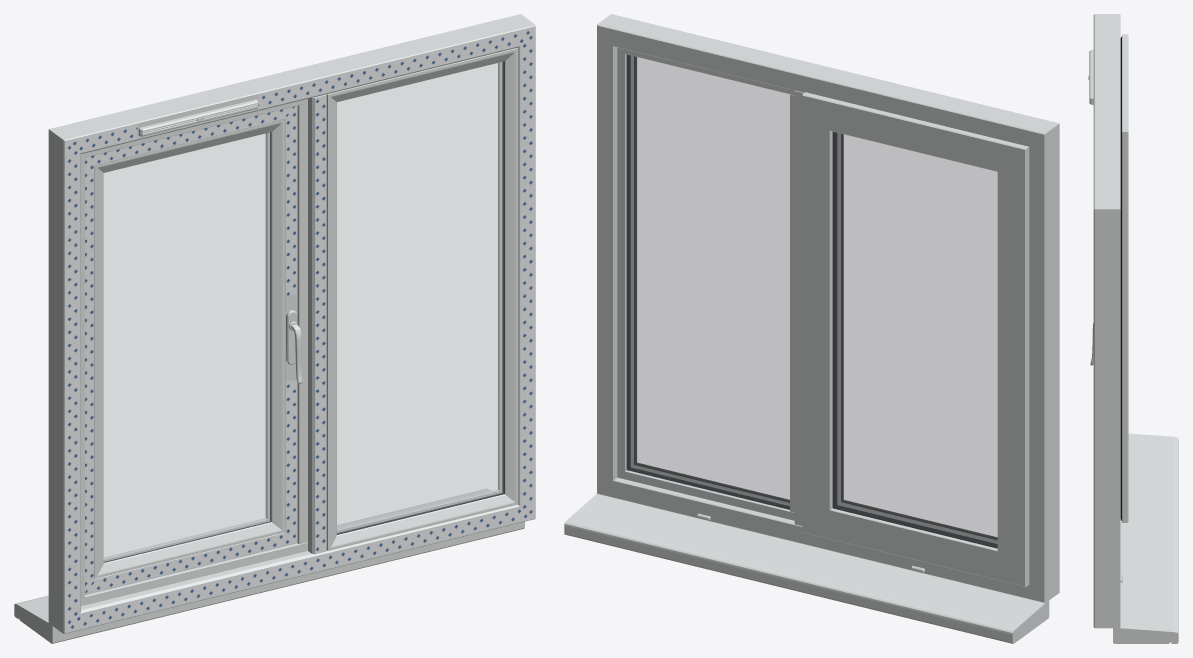
The model's file is window.glb.
3 renders of one model, left to right at view 1: azimuth 30°, elevation 25°; view 2: azimuth 150°, elevation 25°; view 3: azimuth 270°, elevation 25°, orthographic. The views are drawn at different scales.
Visible parts, largest first — view 1: fixed_inner_pane, opener_inner_pane, film, outer_frame, mullion, fixed_bead_right, opener_bead_right, cill, sash, fixed_bead_left, opener_bead_left, opener_bead_bottom (+8 smaller); view 2: fixed_outer_pane, opener_outer_pane, outer_frame, sash, cill, mullion, bead_gasket, opener_spacer_bar, fixed_spacer_bar, fixed_bead_right, opener_bead_right, opener_bead_bottom (+1 smaller); view 3: outer_frame, cill, sash, sash_gasket, trickle_vent.
Part boxes in pixels (x1,y1,x2,y2): fixed_inner_pane: [337, 62, 503, 533]; opener_inner_pane: [104, 133, 270, 561]; film: [65, 27, 534, 632]; outer_frame: [48, 14, 535, 633]; mullion: [297, 94, 326, 554]; fixed_bead_right: [504, 49, 517, 504]; opener_bead_right: [271, 119, 284, 532]; cill: [14, 488, 524, 643]; sash: [85, 106, 297, 594]; fixed_bead_left: [327, 94, 336, 550]; opener_bead_left: [94, 166, 103, 578]; opener_bead_bottom: [95, 522, 284, 578]; fixed_outer_pane: [627, 55, 789, 509]; opener_outer_pane: [833, 132, 996, 547]; outer_frame: [597, 14, 1059, 602]; sash: [802, 92, 1029, 586]; cill: [564, 494, 1049, 643]; mullion: [790, 91, 803, 525]; bead_gasket: [634, 56, 997, 539]; opener_spacer_bar: [832, 131, 997, 548]; fixed_spacer_bar: [626, 54, 789, 509]; fixed_bead_right: [630, 55, 637, 466]; opener_bead_right: [837, 133, 843, 504]; opener_bead_bottom: [838, 500, 997, 543]; outer_frame: [1093, 14, 1120, 628]; cill: [1113, 433, 1178, 643]; sash: [1122, 34, 1128, 522]; sash_gasket: [1120, 36, 1121, 520]; trickle_vent: [1088, 49, 1093, 104].
Bounding box in the file's own units: 1.2 × 1.24 × 0.234.
Materials: 6 (1 with a texture image).
